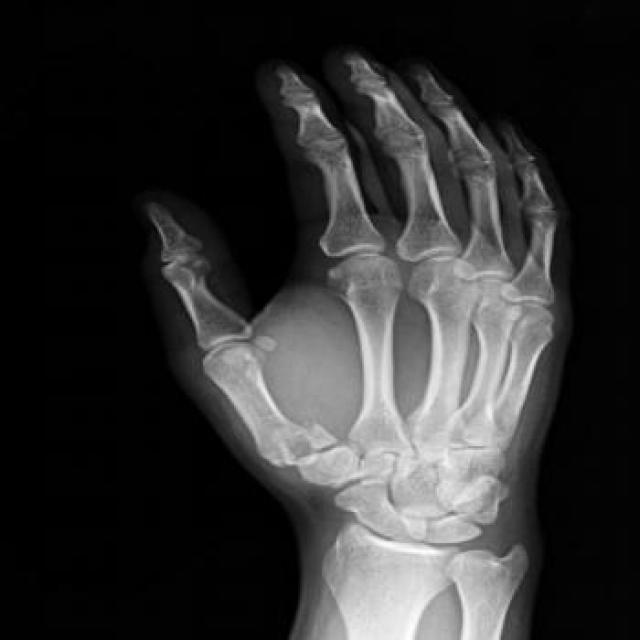Fracture: (297, 418, 348, 454)
